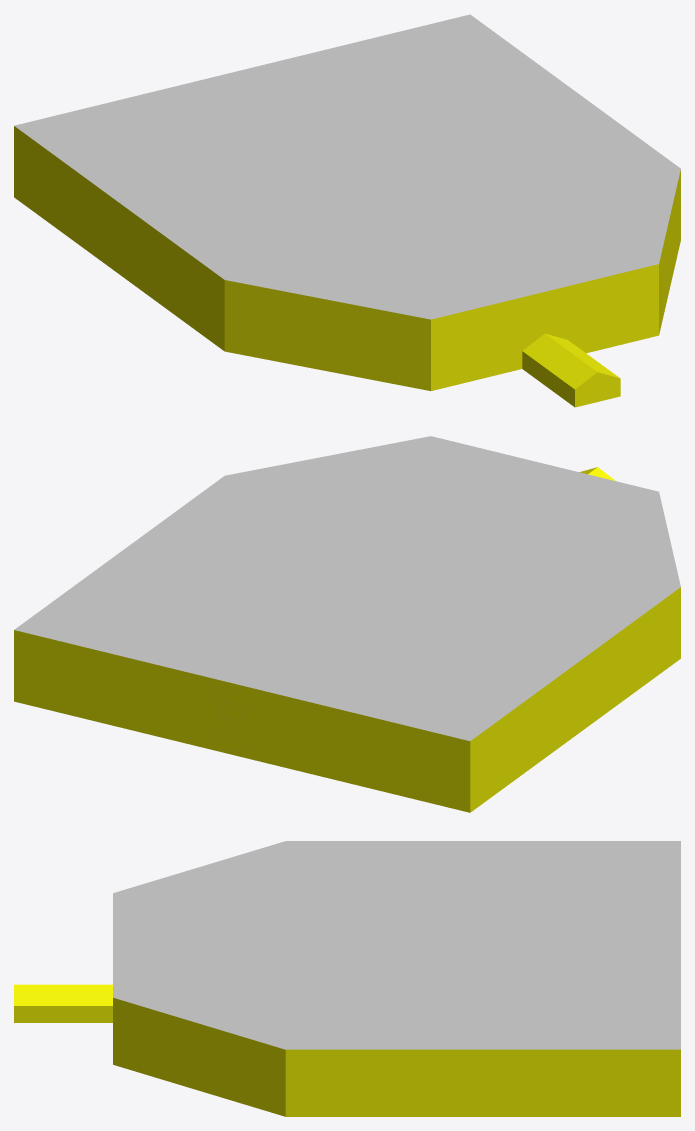
The model's file is sl_segment7.0x0EFFC.collision.obj.
3 renders of one model, top to bottom at view 1: azimuth 30°, elevation 25°; view 2: azimuth 150°, elevation 25°; view 3: azimuth 270°, elevation 25°, orthographic. The views are drawn at different scales.
Parts seen in each view (by area): view 1: sl_segment7_0EFFC_35, sl_segment7_0EFFC_normal; view 2: sl_segment7_0EFFC_35, sl_segment7_0EFFC_normal; view 3: sl_segment7_0EFFC_35, sl_segment7_0EFFC_normal.
Part boxes in pixels (<box>): sl_segment7_0EFFC_35: <box>14,14,680,319</box>; sl_segment7_0EFFC_normal: <box>14,126,680,407</box>; sl_segment7_0EFFC_35: <box>14,436,680,740</box>; sl_segment7_0EFFC_normal: <box>14,467,680,812</box>; sl_segment7_0EFFC_35: <box>113,841,680,1049</box>; sl_segment7_0EFFC_normal: <box>14,984,680,1116</box>.
Bounding box in the file's own units: 4 × 0.5996 × 5.4.
